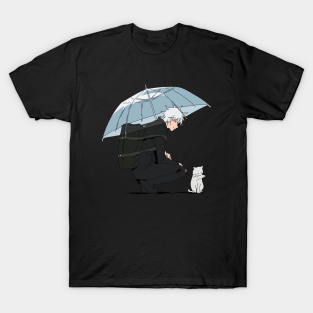design: (99, 81, 215, 196)
